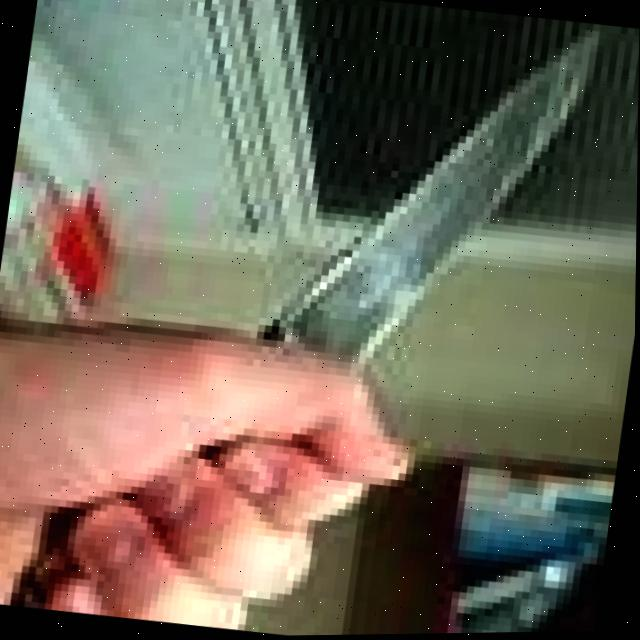knife: (254, 0, 614, 390)
